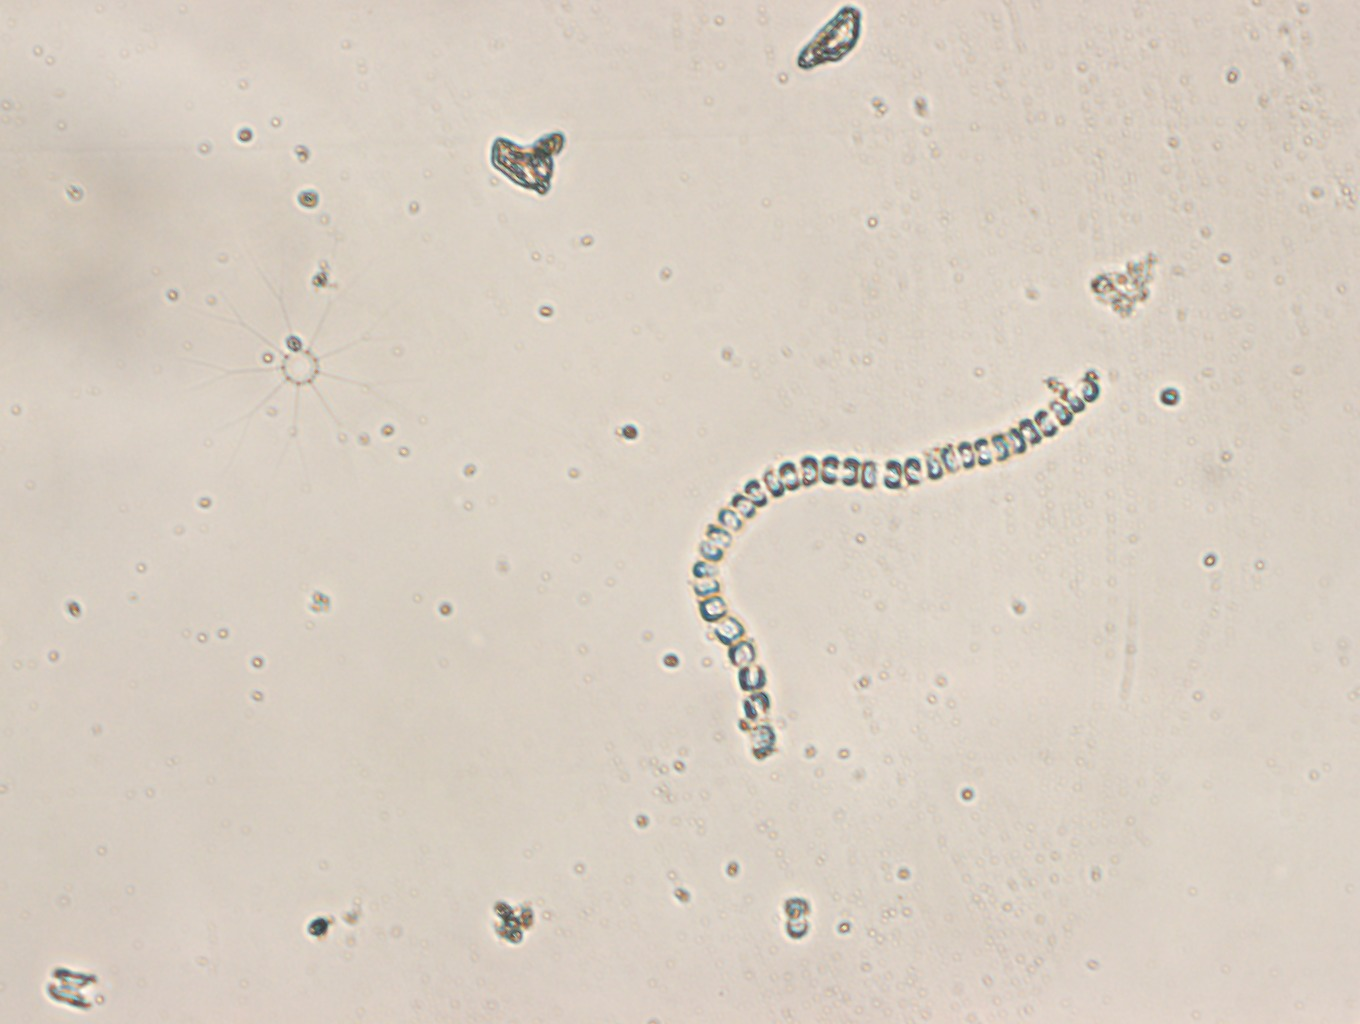bacteriastrum: (182, 230, 417, 490)
